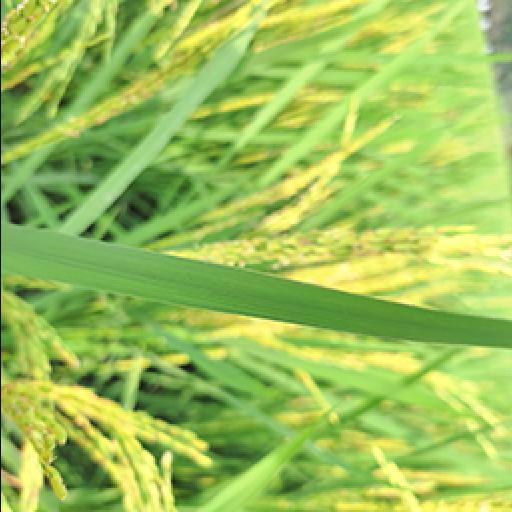Healthy Leaf: (6, 220, 508, 350)
